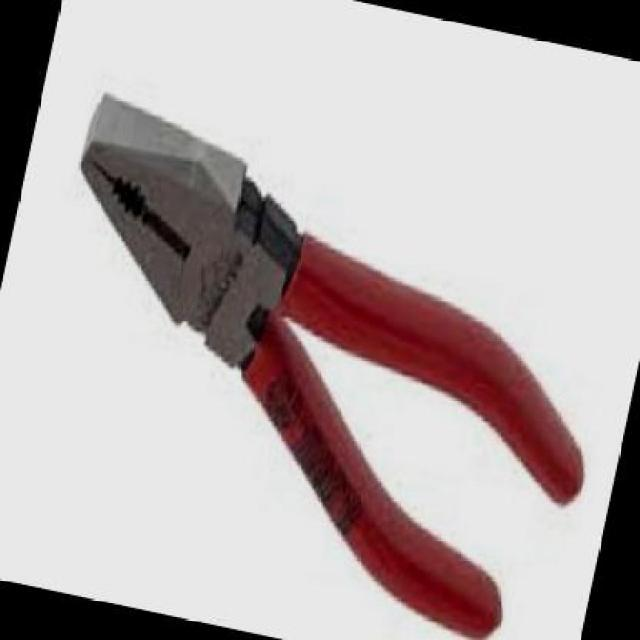pliers: (0, 58, 638, 638)
